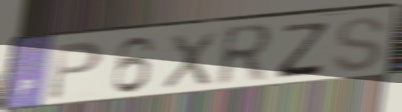6: (110, 35, 157, 96)
P: (46, 39, 105, 103)
R: (214, 21, 278, 90)
S: (330, 15, 389, 75)
X: (160, 29, 219, 92)
Z: (273, 21, 332, 81)
